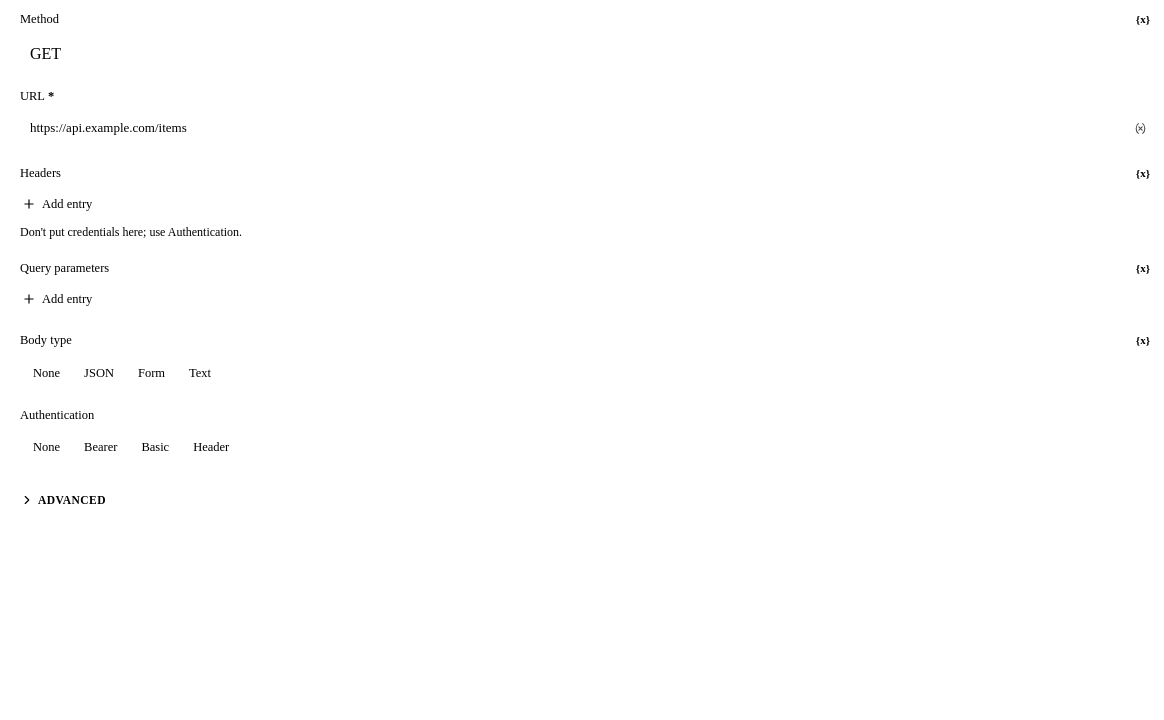
it: SchemaForm with the HTTP request schema › maps edit key/value rows and flag duplicate keys
Click the button "Add entry" below "Headers". click: (57, 204)
box: x1=14 y1=190 x2=100 y2=218
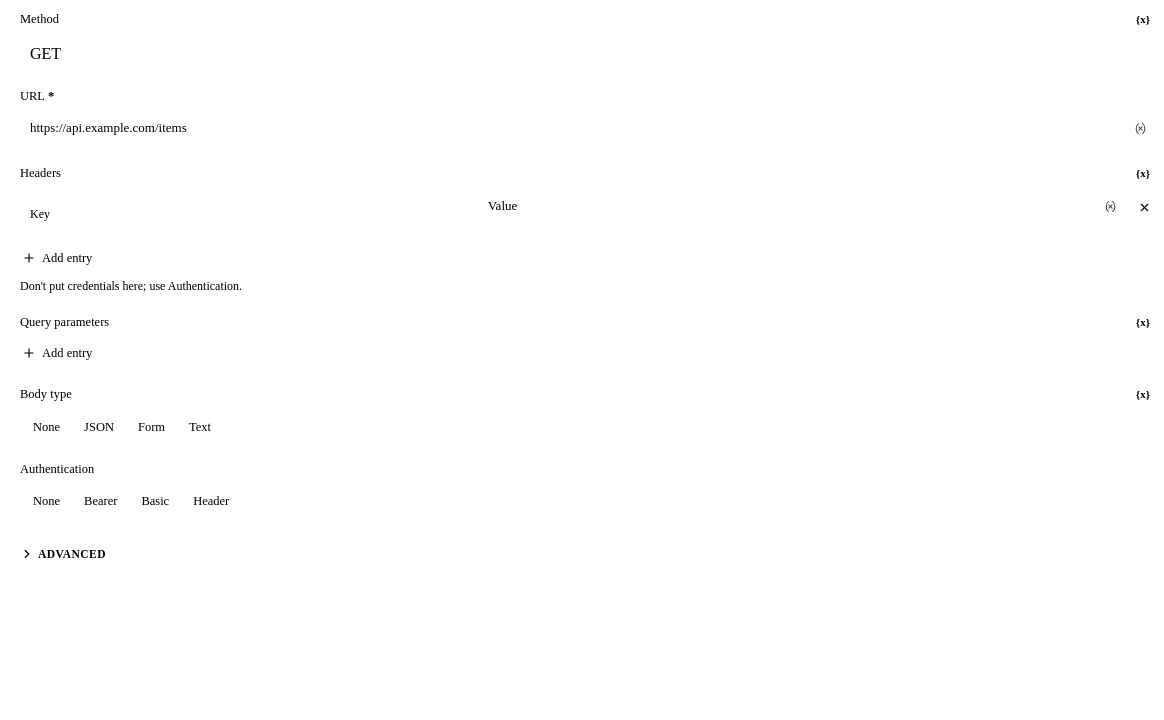
Click the button "Add entry" below "Headers". click: (57, 258)
box: x1=14 y1=244 x2=100 y2=272
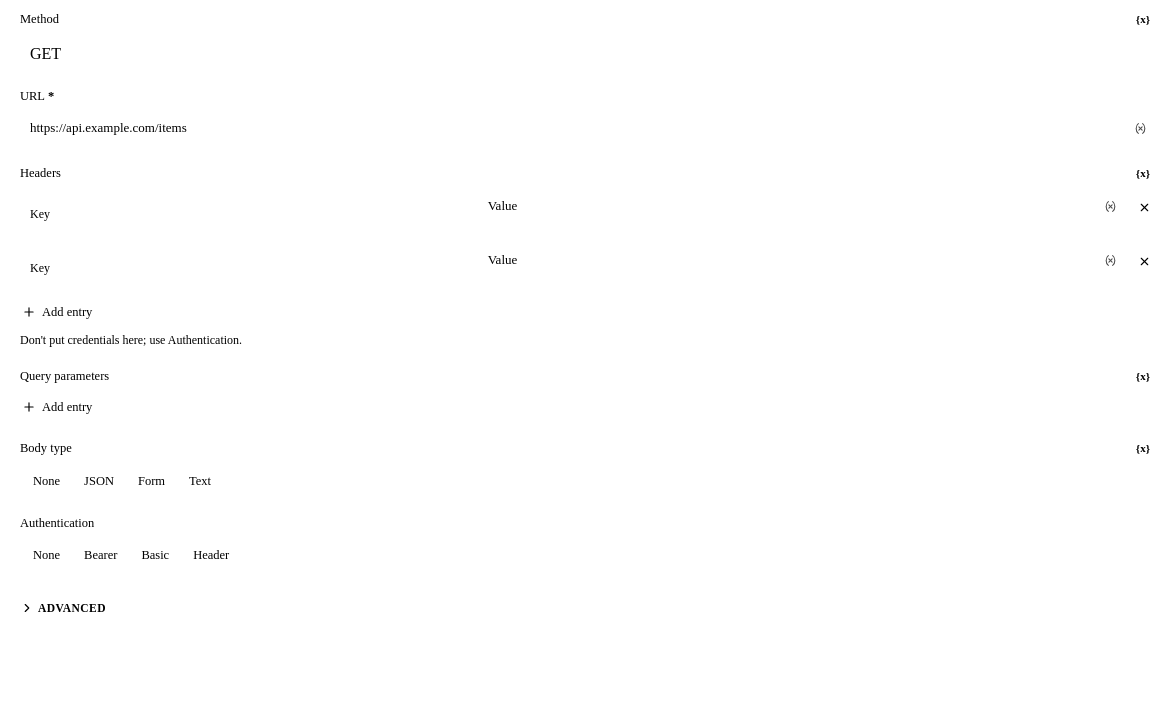
Result: the number of fields named "Headers: Key" is 2
Type "X-Id" into the field named "Headers: Key". click: (246, 214)
box: x1=20 y1=190 x2=472 y2=238
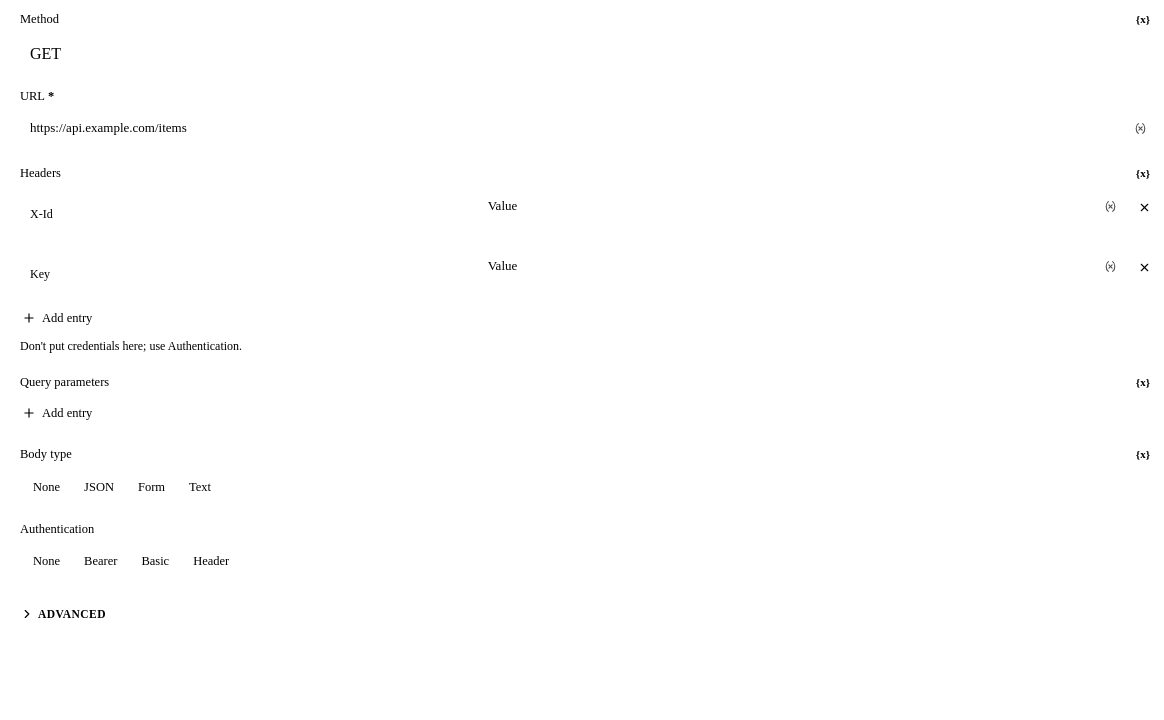
Type "X-Id" into the field named "Headers: Key". click: (246, 274)
box: x1=20 y1=250 x2=472 y2=298
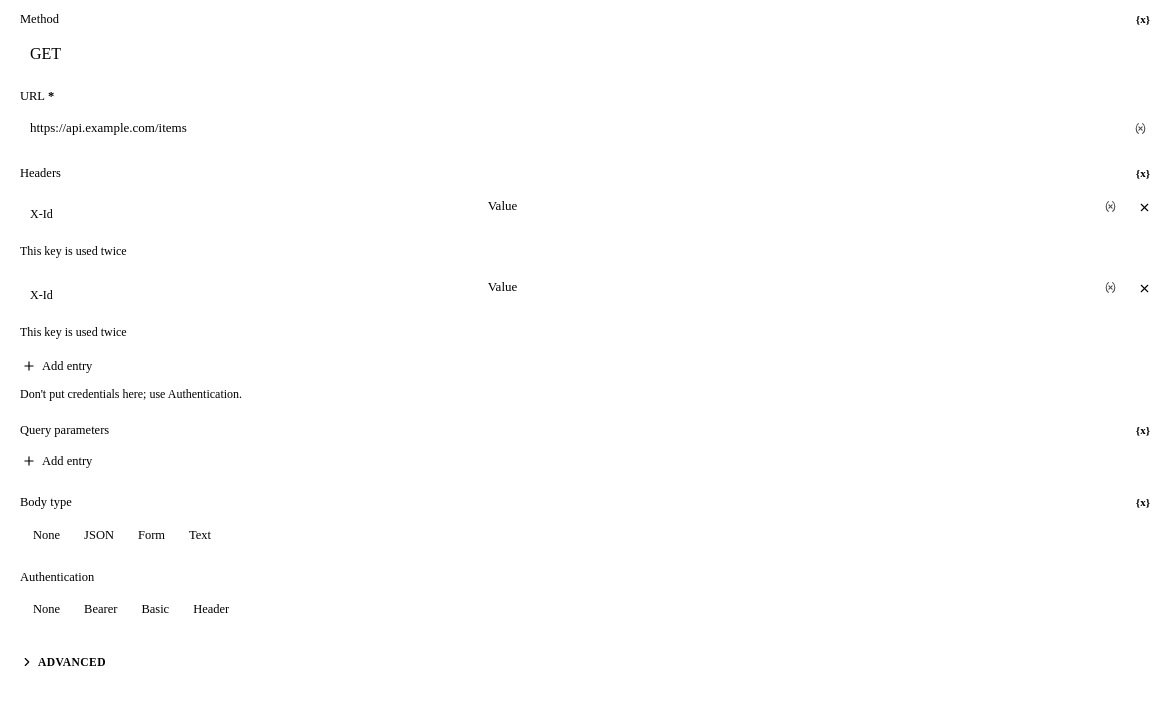
Result: the 1st text "This key is used twice" is shown at x1=20 y1=244 x2=127 y2=258
